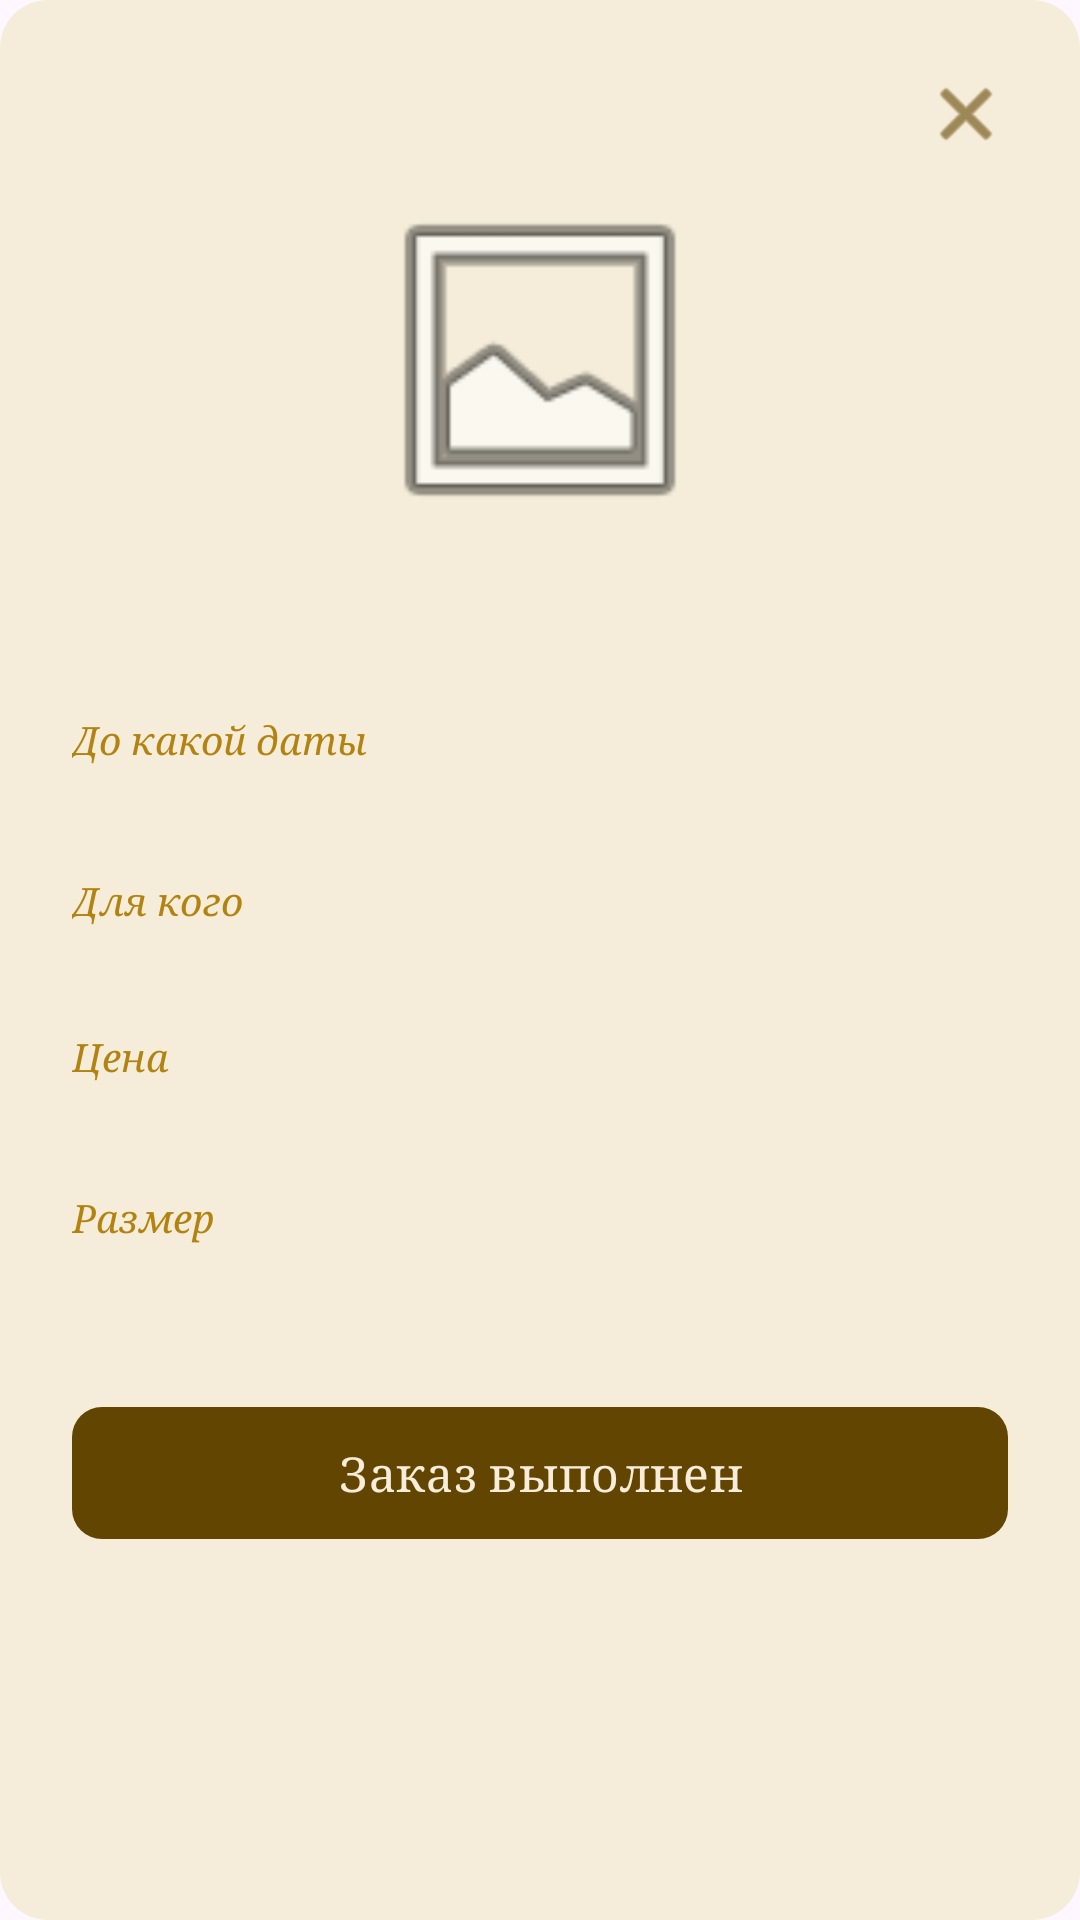

Icons on this 1080×1920 Android screen, each with its box as (x1, y1, x2, y2):
Закрыть: (940, 88, 992, 140)
